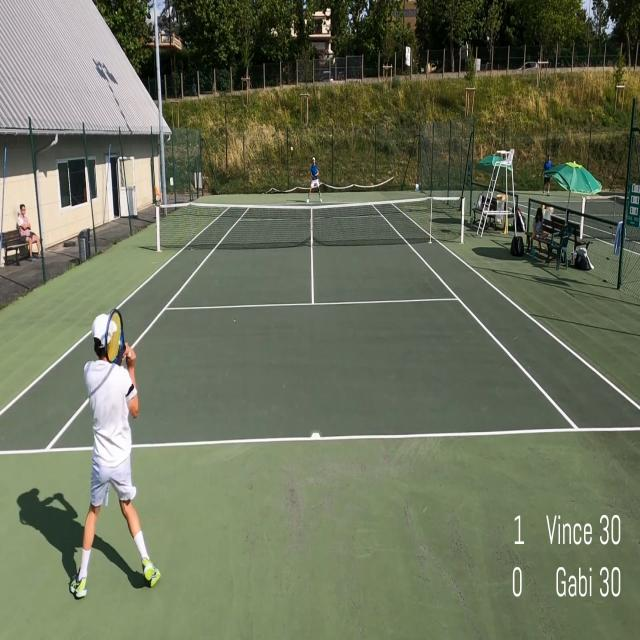ball: (291, 146, 293, 152)
